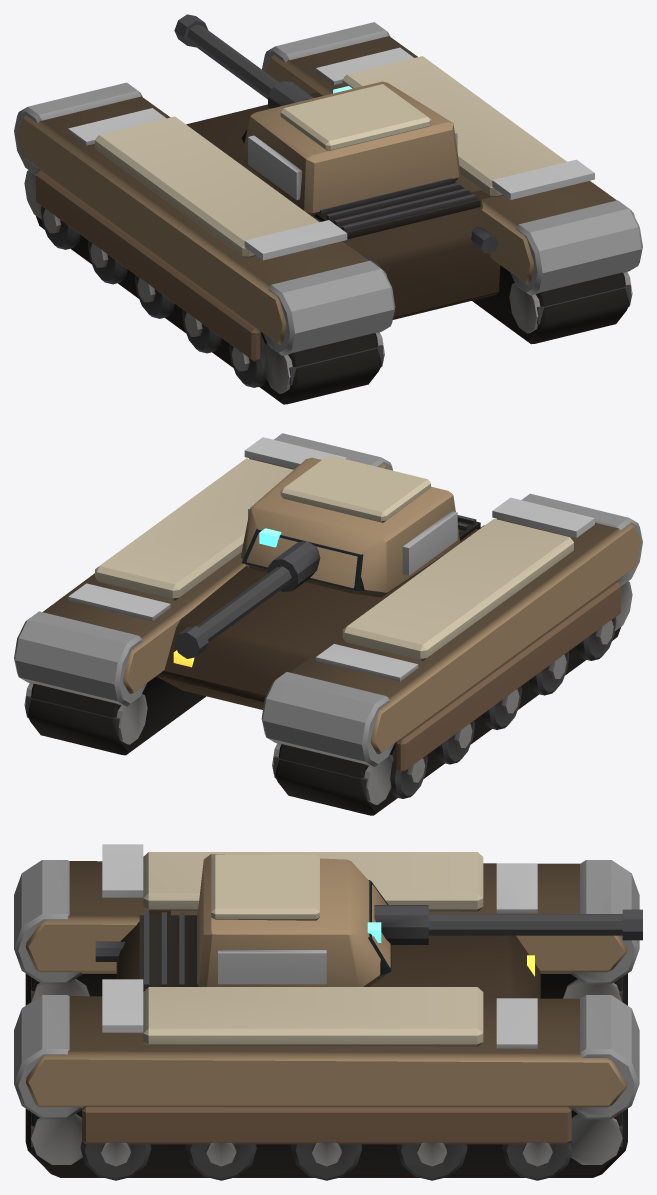
File: HARKONNEN_COMBAT_TANK.glb
3 views of the same model, one above another, from view 1: azimuth 30°, elevation 25°; view 2: azimuth 150°, elevation 25°; view 3: azimuth 270°, elevation 25° (orthographic). The views are drawn at different scales.
Visible parts, largest first — view 1: hull, turret, barrel, idler_R, idler_L, wheel_L0, wheel_L3, wheel_L1, wheel_L2, wheel_L4; view 2: hull, turret, barrel, sprocket_R, sprocket_L, wheel_L4, wheel_L1, wheel_L2, wheel_L3, wheel_L0; view 3: hull, turret, barrel, sprocket_R, idler_R, wheel_R0, wheel_R4, wheel_R1, wheel_R2, wheel_R3, sprocket_L, idler_L.
Part boxes in pixels (x1,y1,x2,y2): hull: (14,22,642,404); turret: (240,81,460,216); barrel: (174,14,313,108); idler_R: (509,272,632,333); idler_L: (263,332,384,393); wheel_L0: (229,336,267,387); wheel_L3: (87,240,127,284); wheel_L1: (182,309,221,353); wheel_L2: (135,275,174,318); wheel_L4: (40,206,80,249); hull: (14,433,642,815); turret: (240,455,460,597); barrel: (174,541,320,658); sprocket_R: (24,683,147,744); sprocket_L: (272,743,393,804); wheel_L4: (389,747,427,798); wheel_L1: (529,651,569,695); wheel_L2: (482,686,521,729); wheel_L3: (435,721,474,764); wheel_L0: (576,617,616,660); hull: (14,844,639,1177); turret: (198,854,391,986); barrel: (374,905,642,944); sprocket_R: (570,1114,622,1164); idler_R: (31,1114,82,1164); wheel_R0: (80,1141,151,1180); wheel_R4: (502,1141,572,1180); wheel_R1: (186,1142,256,1180); wheel_R2: (291,1142,361,1180); wheel_R3: (397,1142,467,1180); sprocket_L: (562,979,621,1001); idler_L: (31,979,89,1001).
Bounding box in the file's own units: 0.702 × 0.335 × 0.925.
